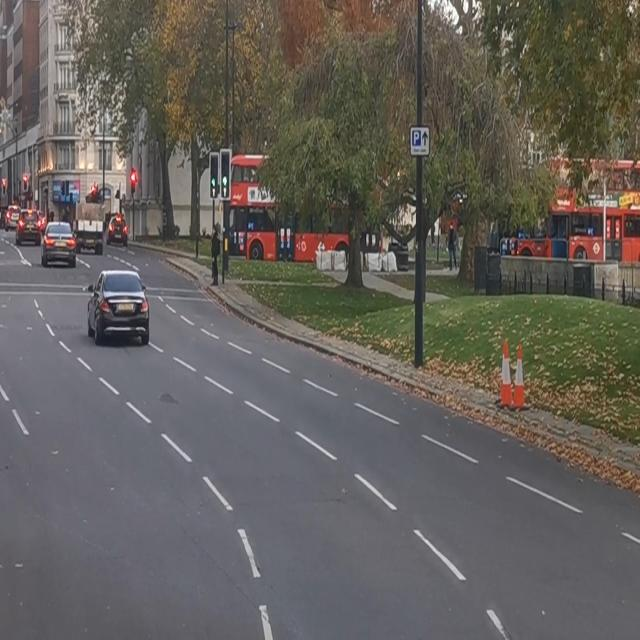Car: (85, 270, 151, 352), (40, 222, 80, 271)
